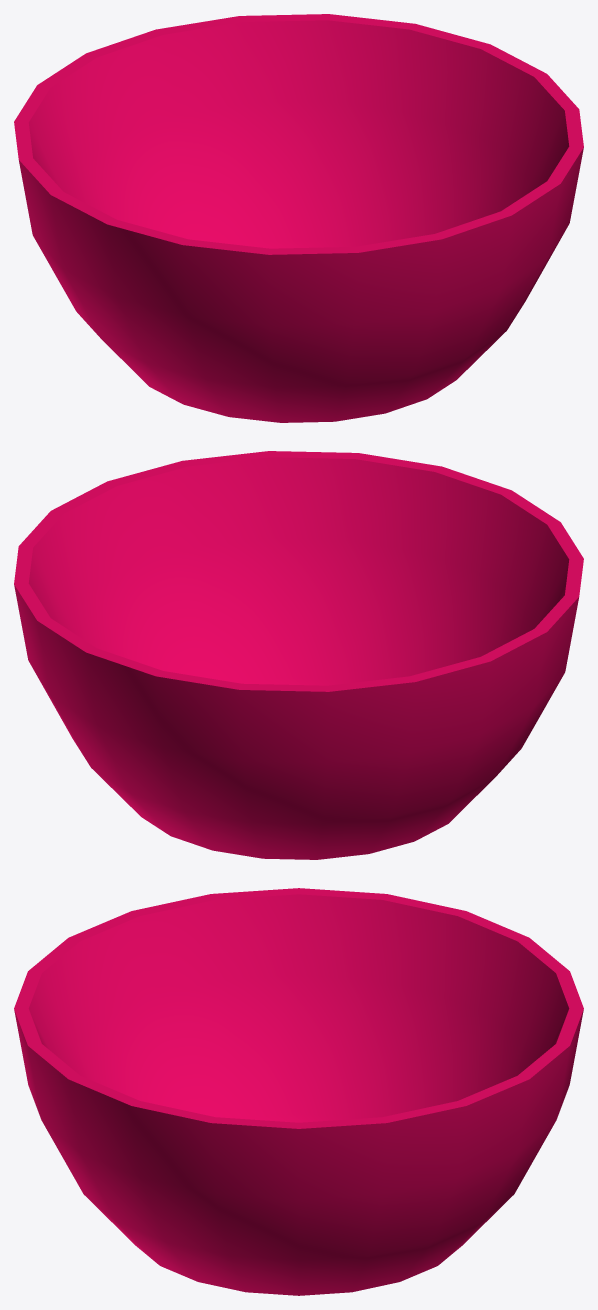
File: Bowl_04_Lod0.fbx
The picture shows the model from 3 angles, top to bottom: view 1: azimuth 30°, elevation 25°; view 2: azimuth 150°, elevation 25°; view 3: azimuth 270°, elevation 25°; orthographic projection.
Visible parts, largest first — view 1: Bowl_04_Lod0; view 2: Bowl_04_Lod0; view 3: Bowl_04_Lod0.
Part boxes in pixels (left/top/right/bottom): Bowl_04_Lod0: left=14, top=14, right=583, bottom=422; Bowl_04_Lod0: left=14, top=451, right=583, bottom=859; Bowl_04_Lod0: left=14, top=888, right=583, bottom=1295.
Bounding box in the file's own units: 19 × 8.35 × 19.
